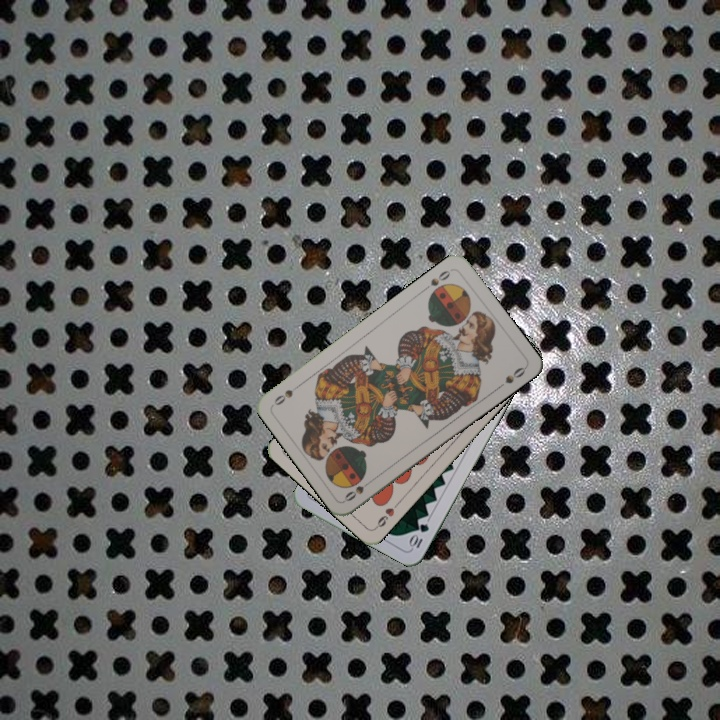G10: (406, 520, 432, 551)
H9: (371, 498, 402, 531)
SO: (340, 475, 376, 504), (419, 265, 455, 293)
